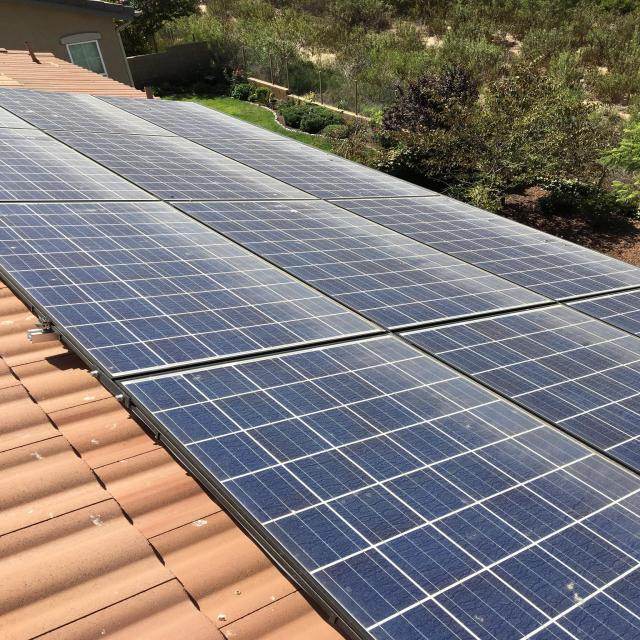dust-solar-panel: (0, 89, 640, 640)
